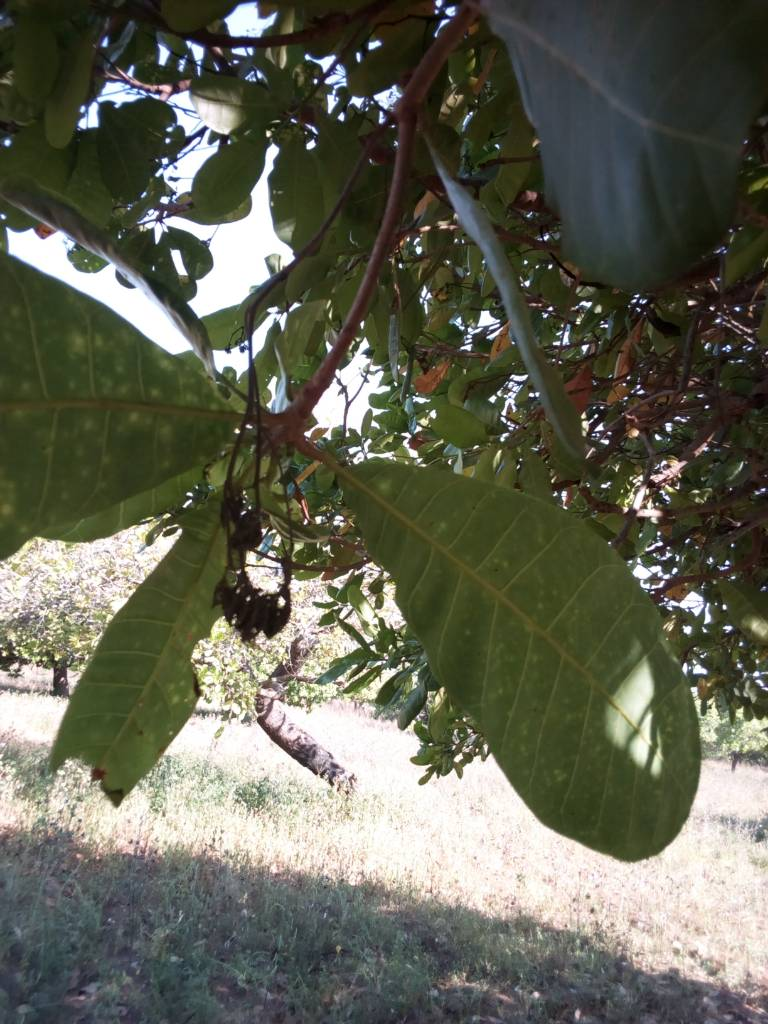Dessèchement des bourgeons: (213, 366, 300, 639)
